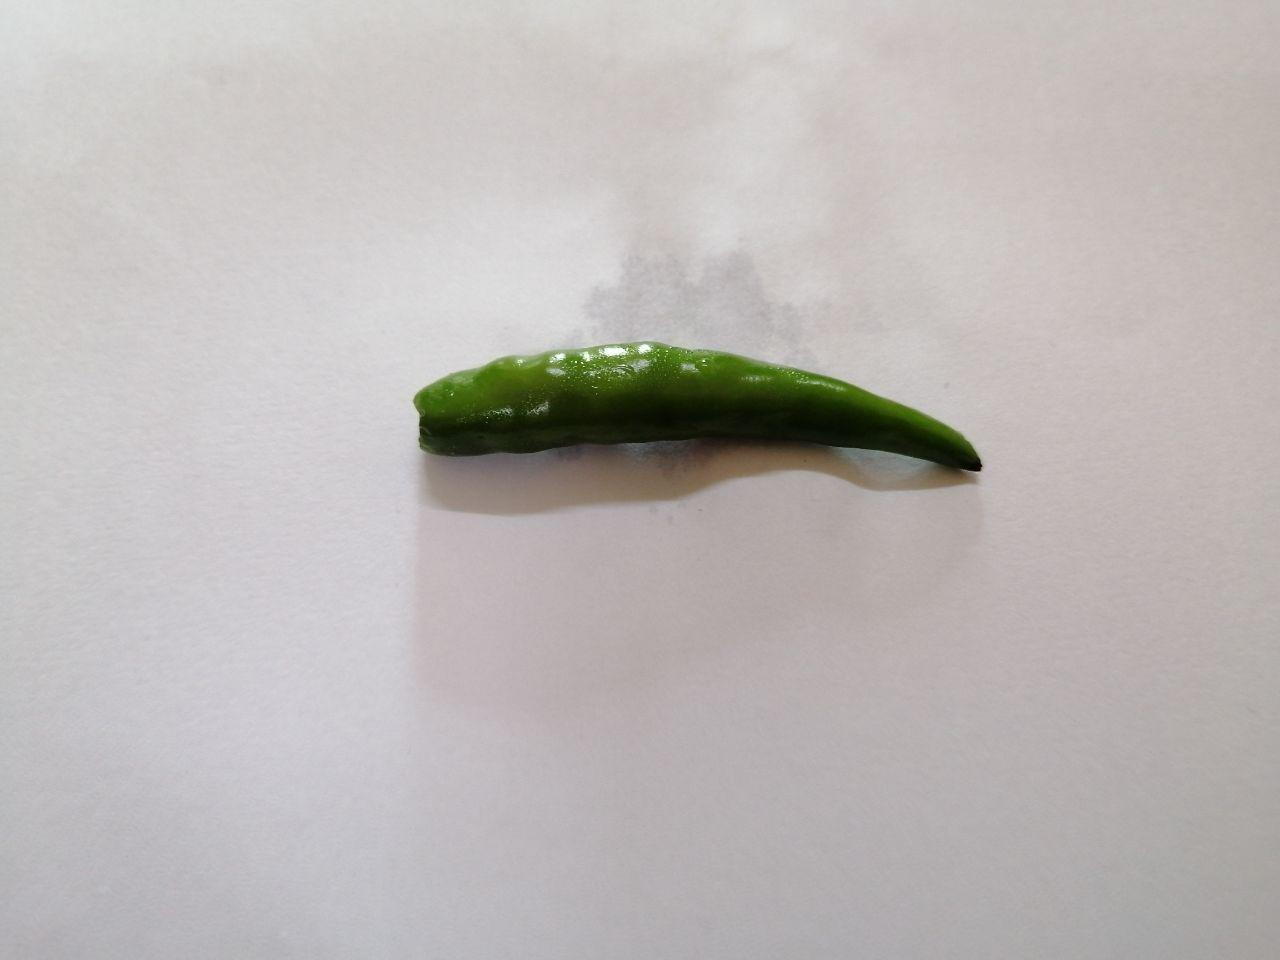lada hijau: (393, 317, 1013, 527)
